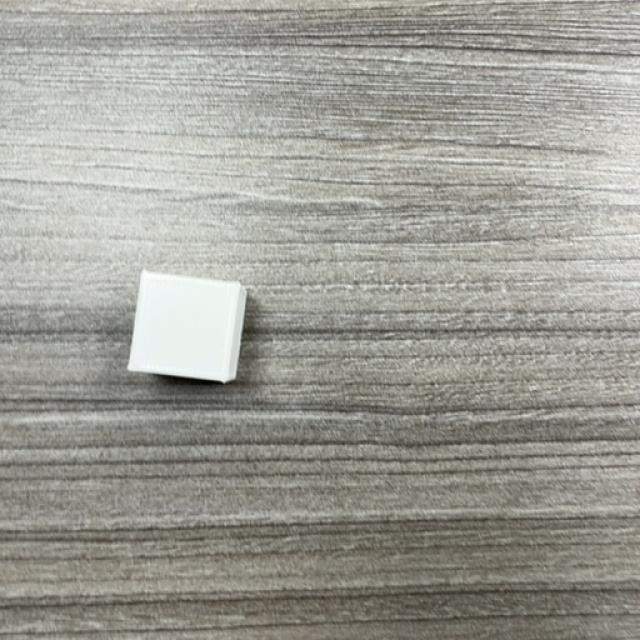Blanco: (128, 271, 246, 385)
